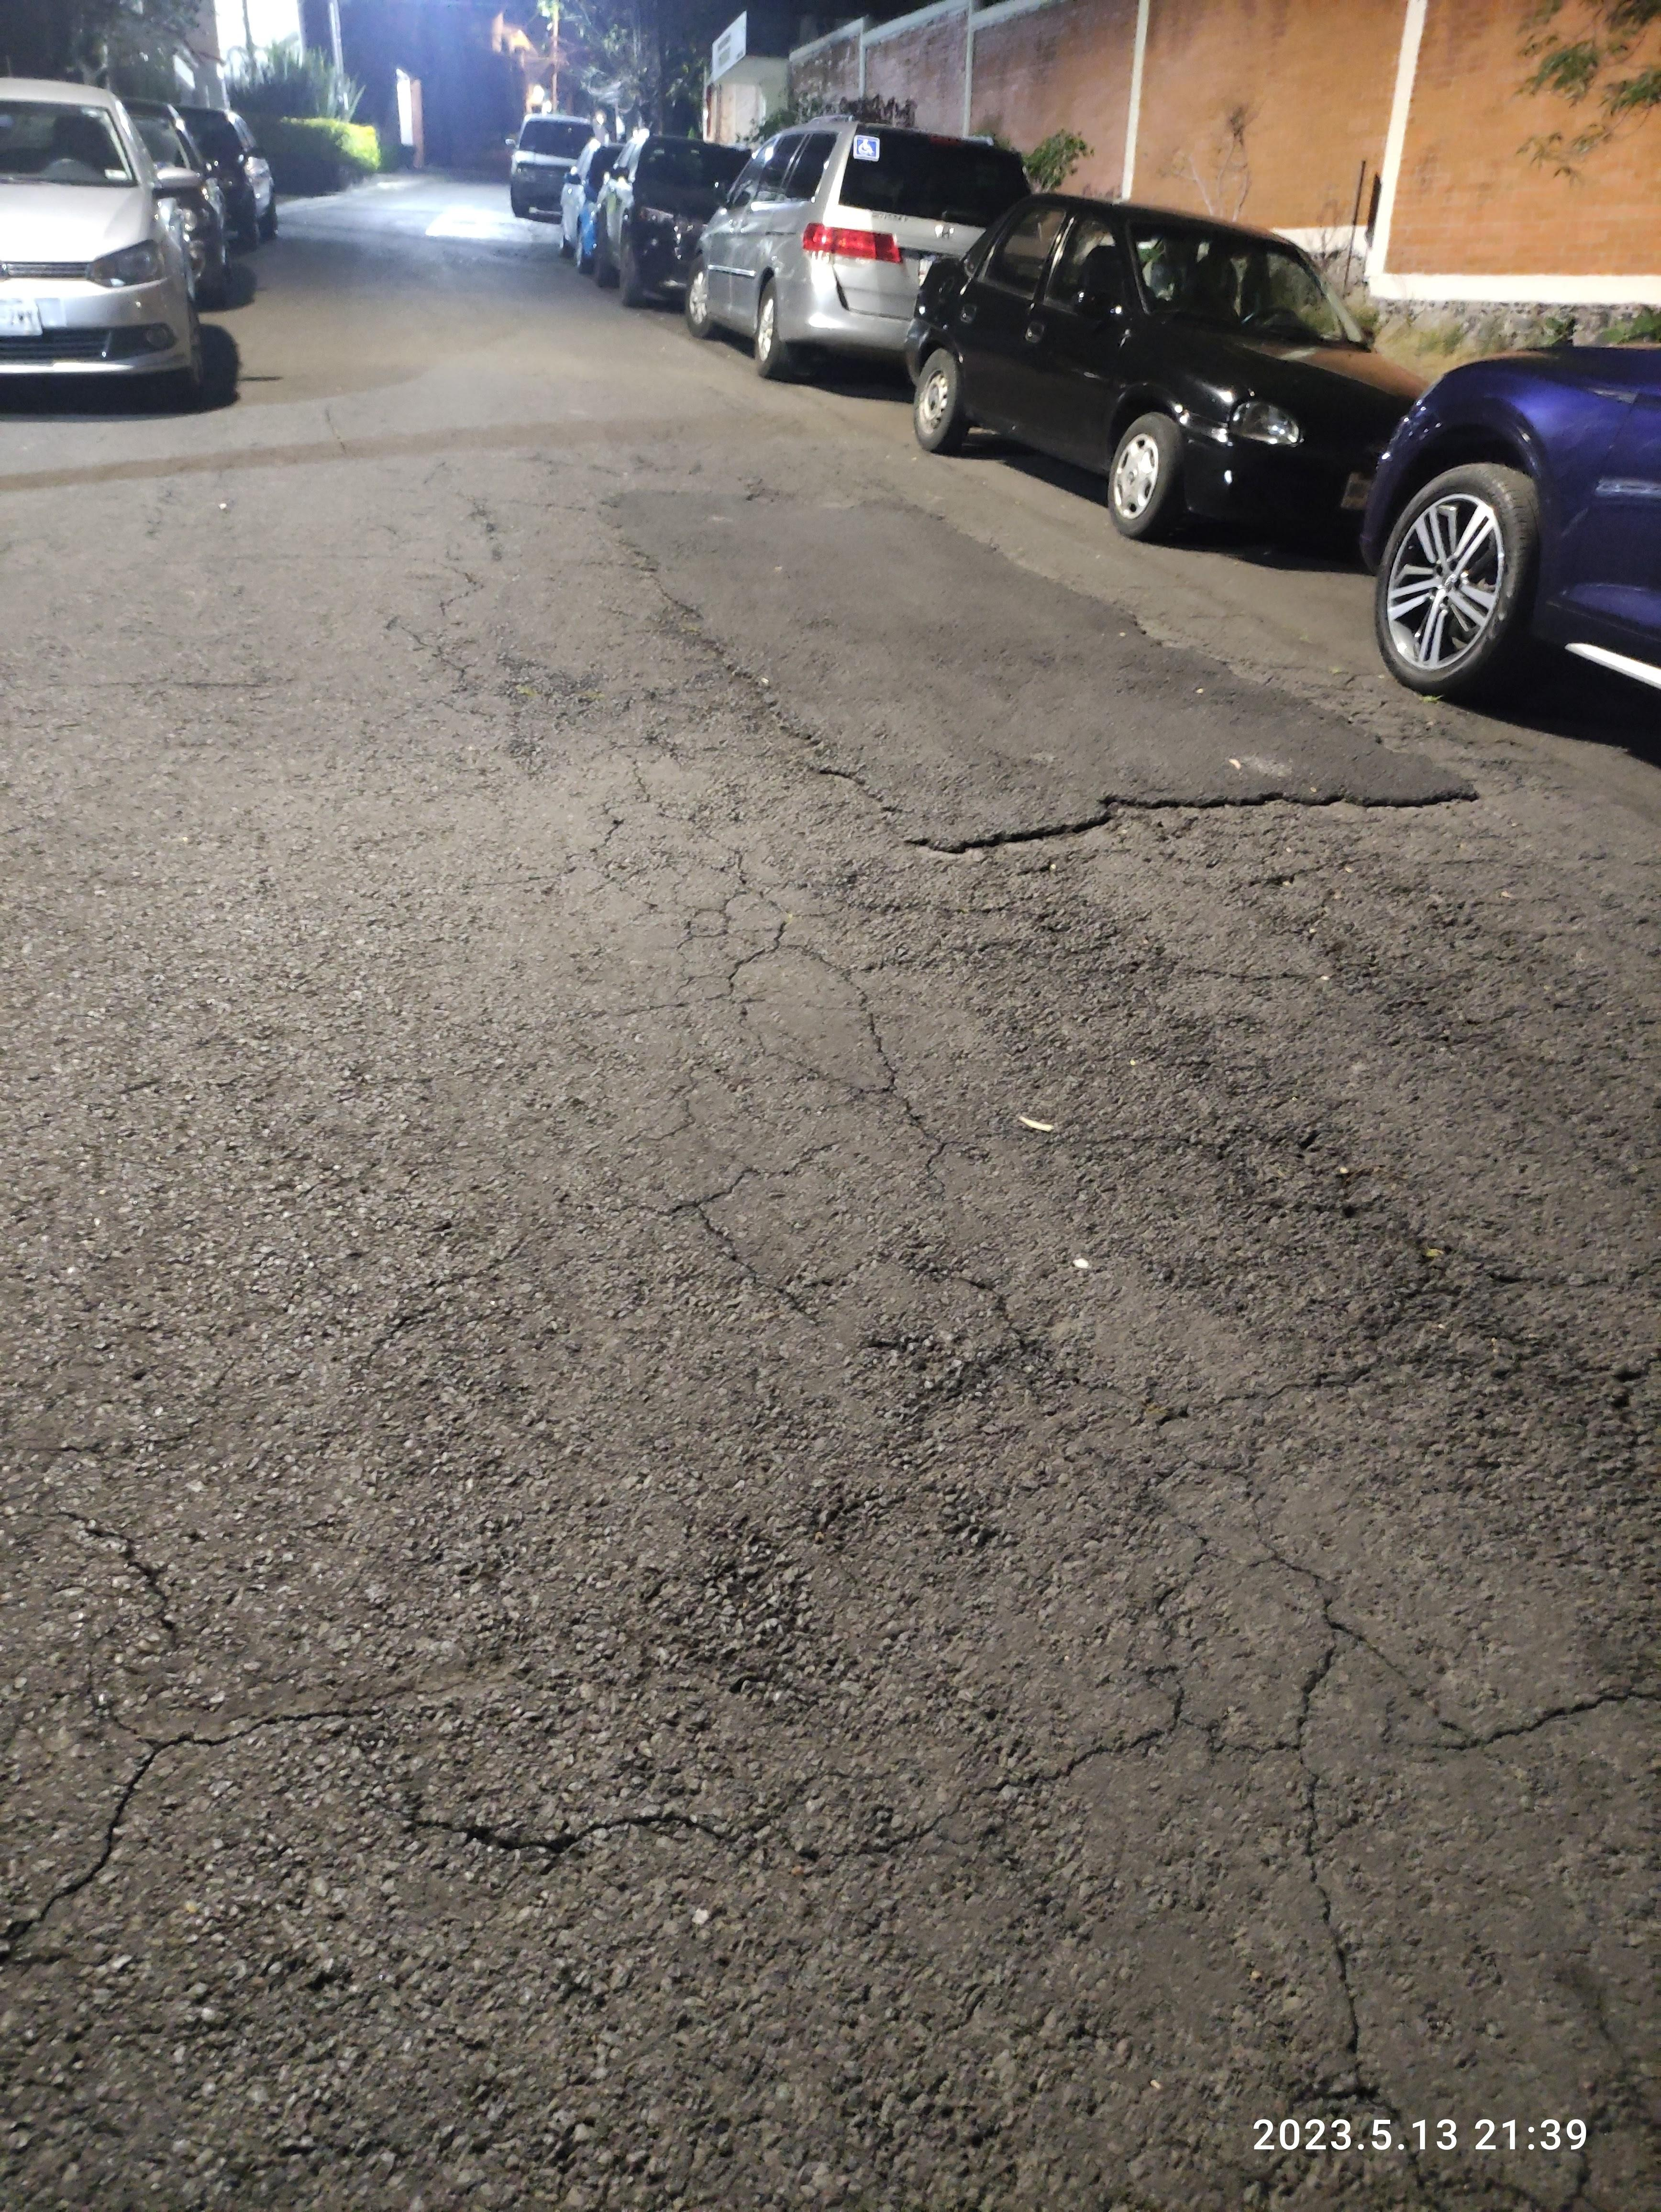alligator-crack: (588, 808, 1661, 1469), (1272, 1584, 1661, 2212)
crack: (0, 1689, 1185, 1985)
